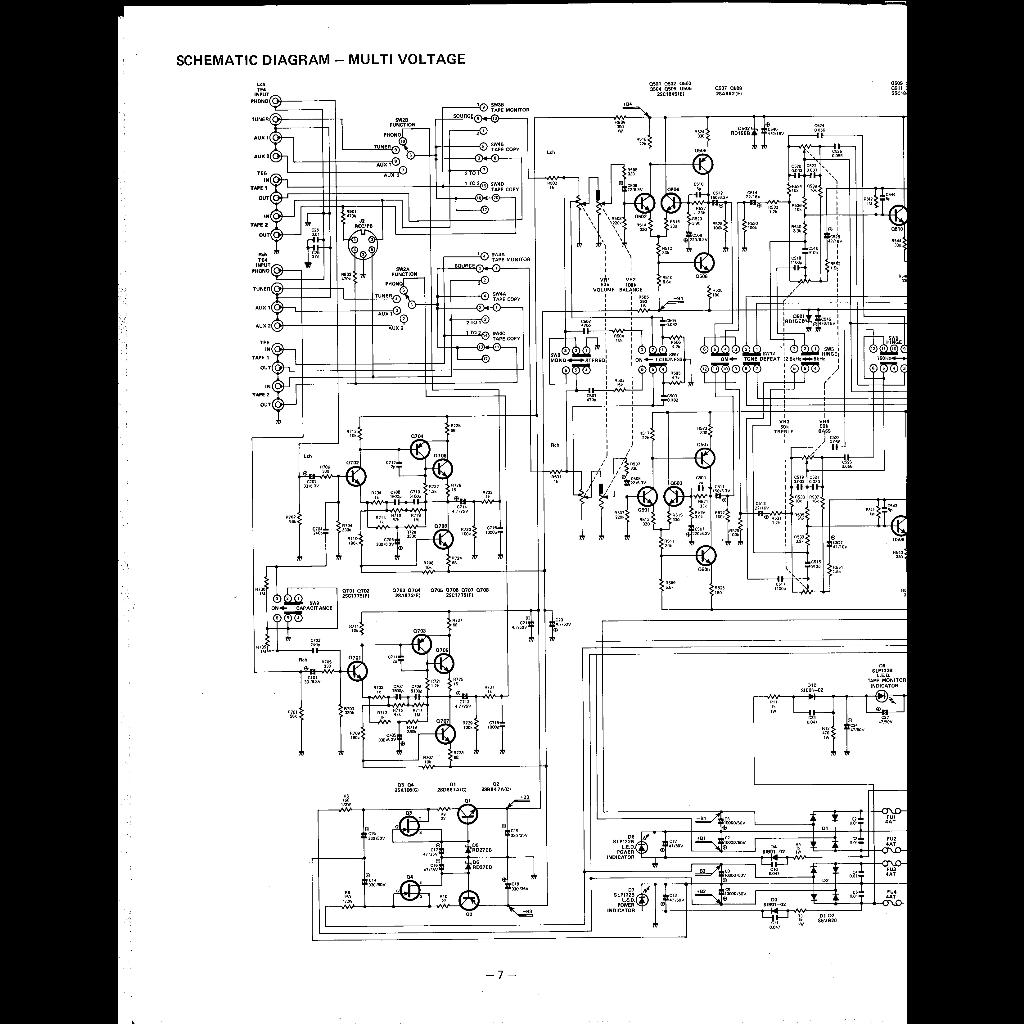Diagram: (243, 74, 907, 948)
